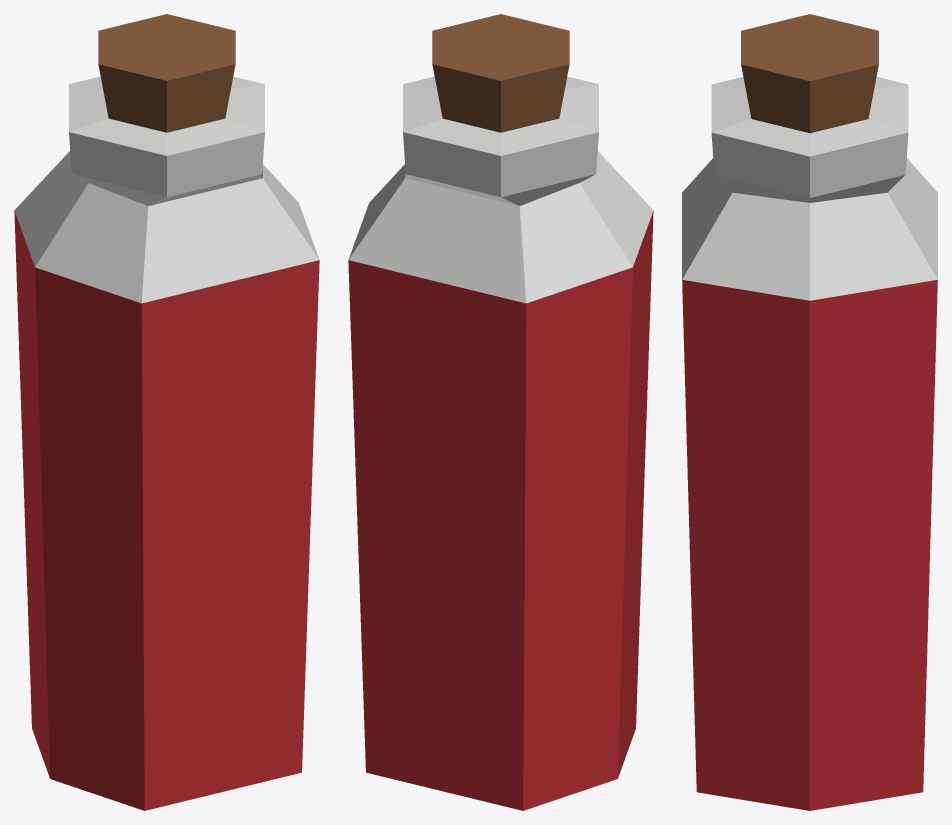
The model's file is potion_red.glb.
The picture shows the model from 3 angles, left to right: view 1: azimuth 30°, elevation 25°; view 2: azimuth 150°, elevation 25°; view 3: azimuth 270°, elevation 25°; orthographic projection.
Visible parts, largest first — view 1: potion_red; view 2: potion_red; view 3: potion_red.
Part boxes in pixels (box(x1,y1,x2,y2)): potion_red: box(14, 14, 319, 810); potion_red: box(348, 14, 653, 810); potion_red: box(682, 14, 937, 810).
Bounding box in the file's own units: 0.1736 × 0.442 × 0.1451.
1 material, 1 textured.
